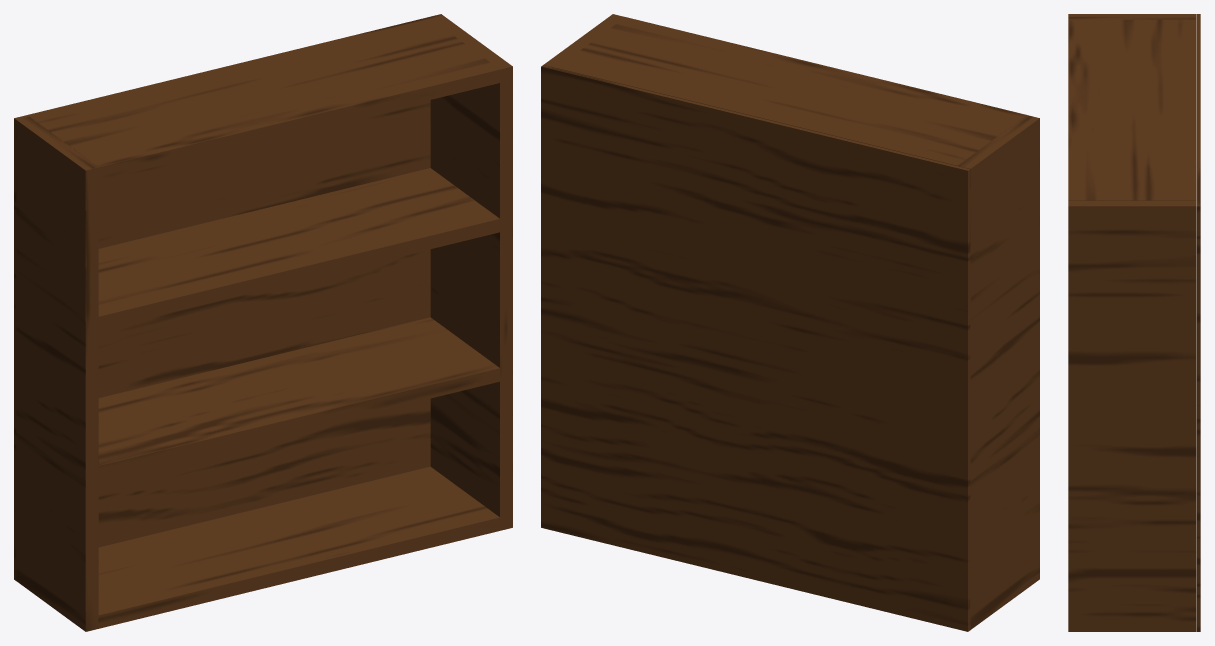
File: bookshelf.glb
The picture shows the model from 3 angles, left to right: view 1: azimuth 30°, elevation 25°; view 2: azimuth 150°, elevation 25°; view 3: azimuth 270°, elevation 25°; orthographic projection. The views are drawn at different scales.
Parts seen in each view (by area): view 1: pCube7, pCube6, pCube4, pCube1, pCube2, pCube3, pCube5; view 2: pCube7, pCube6, pCube4, pCube5; view 3: pCube5, pCube4, pCube7, pCube6.
Boxes of the visible parts, bbox=[...] form: pCube7: bbox=[14, 14, 442, 580]; pCube6: bbox=[16, 117, 98, 631]; pCube4: bbox=[29, 18, 500, 180]; pCube1: bbox=[98, 466, 500, 628]; pCube2: bbox=[98, 317, 500, 479]; pCube3: bbox=[98, 168, 499, 329]; pCube5: bbox=[430, 15, 512, 530]; pCube7: bbox=[541, 65, 970, 631]; pCube6: bbox=[958, 115, 1039, 629]; pCube4: bbox=[556, 17, 1026, 165]; pCube5: bbox=[543, 14, 625, 67]; pCube5: bbox=[1068, 200, 1196, 631]; pCube4: bbox=[1068, 19, 1196, 200]; pCube7: bbox=[1196, 14, 1200, 631]; pCube6: bbox=[1068, 14, 1196, 19].
Bounding box in the file's own units: 2.13 × 2.2 × 0.6194.
1 material, 1 textured.
